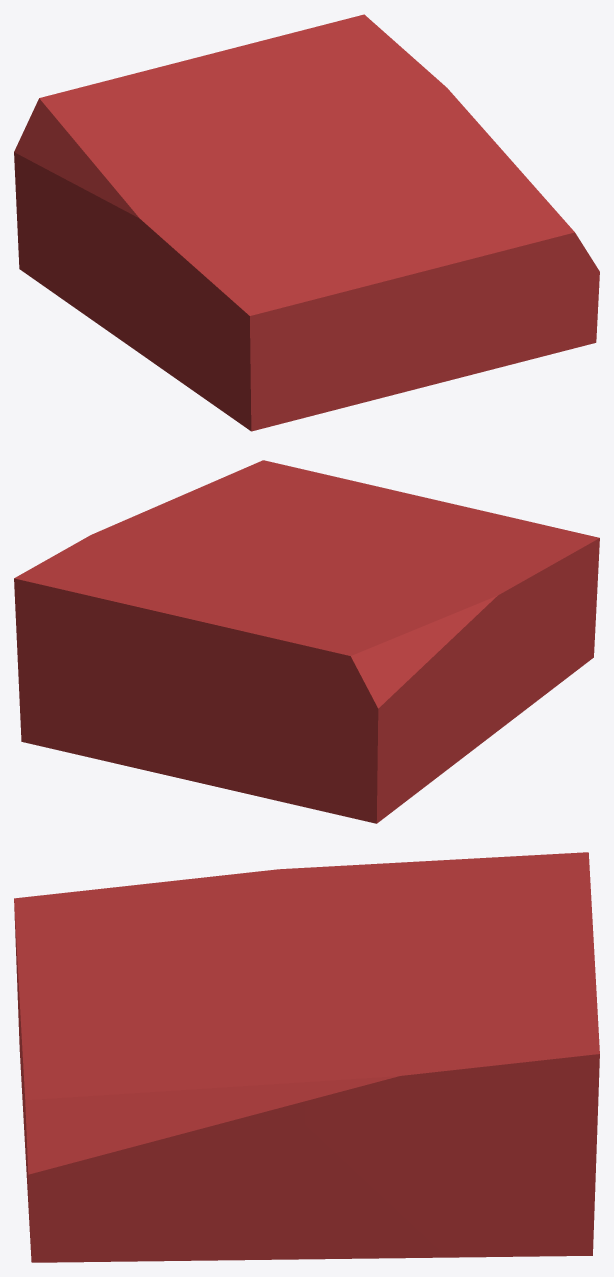
The model's file is ea_arch_wall03_rubble_01b_pre__20__6_lev1.glb.
3 views of the same model, one above another, from view 1: azimuth 30°, elevation 25°; view 2: azimuth 150°, elevation 25°; view 3: azimuth 270°, elevation 25° (orthographic). The views are drawn at different scales.
Visible parts, largest first — view 1: ea_arch_wall03_rubble_01b_pre__20__6_lev1; view 2: ea_arch_wall03_rubble_01b_pre__20__6_lev1; view 3: ea_arch_wall03_rubble_01b_pre__20__6_lev1.
Part boxes in pixels (<box>): ea_arch_wall03_rubble_01b_pre__20__6_lev1: <box>14,14,599,431</box>; ea_arch_wall03_rubble_01b_pre__20__6_lev1: <box>14,460,599,823</box>; ea_arch_wall03_rubble_01b_pre__20__6_lev1: <box>14,852,599,1262</box>.
Bounding box in the file's own units: 0.2263 × 0.0974 × 0.2517.
1 material, 1 textured.
